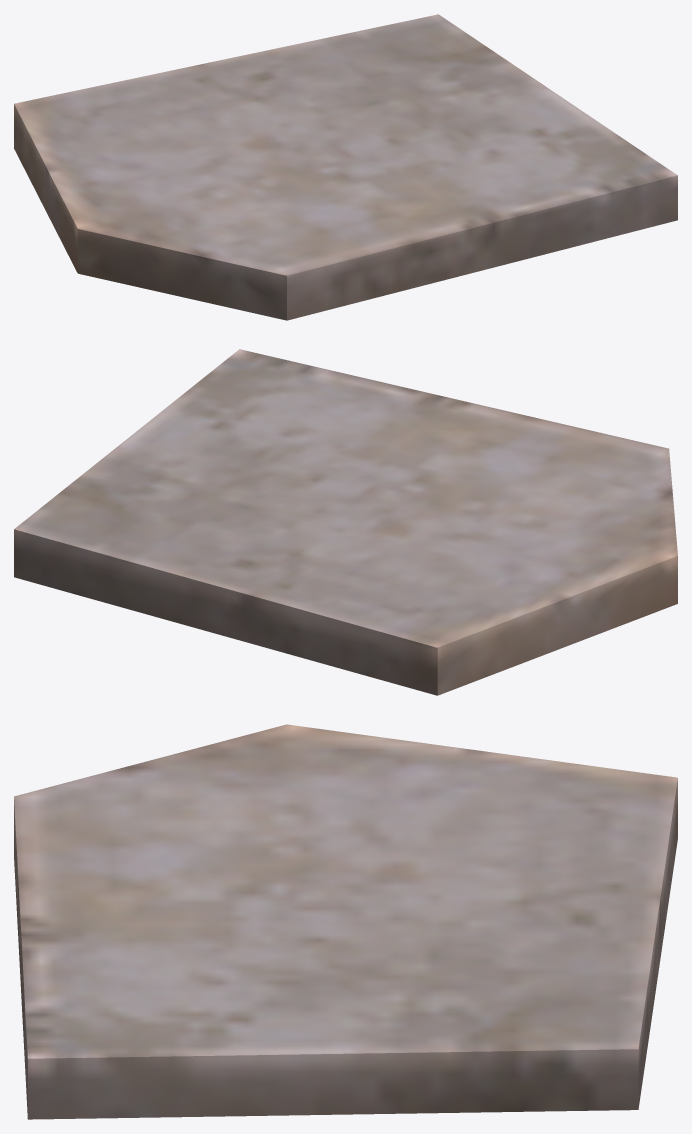
Rendered from FB_CunLuo_shiotu04.FBX.
3 views of the same model, one above another, from view 1: azimuth 30°, elevation 25°; view 2: azimuth 150°, elevation 25°; view 3: azimuth 270°, elevation 25° (orthographic). The views are drawn at different scales.
Parts seen in each view (by area): view 1: Box03; view 2: Box03; view 3: Box03.
Boxes of the visible parts, bbox=[...] form: Box03: bbox=[14, 14, 677, 320]; Box03: bbox=[14, 349, 677, 695]; Box03: bbox=[14, 724, 677, 1119].
Size of the model in its own units: 2.06 by 0.1744 by 1.73.
